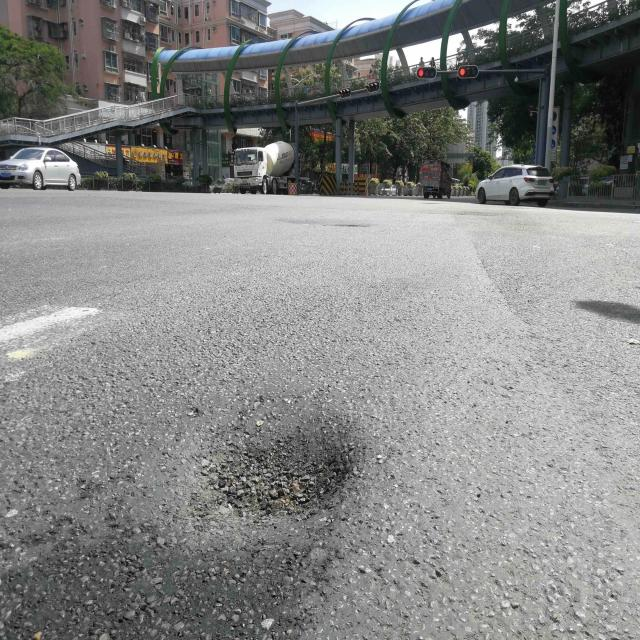Pothole: (218, 418, 352, 532), (573, 297, 640, 327)
